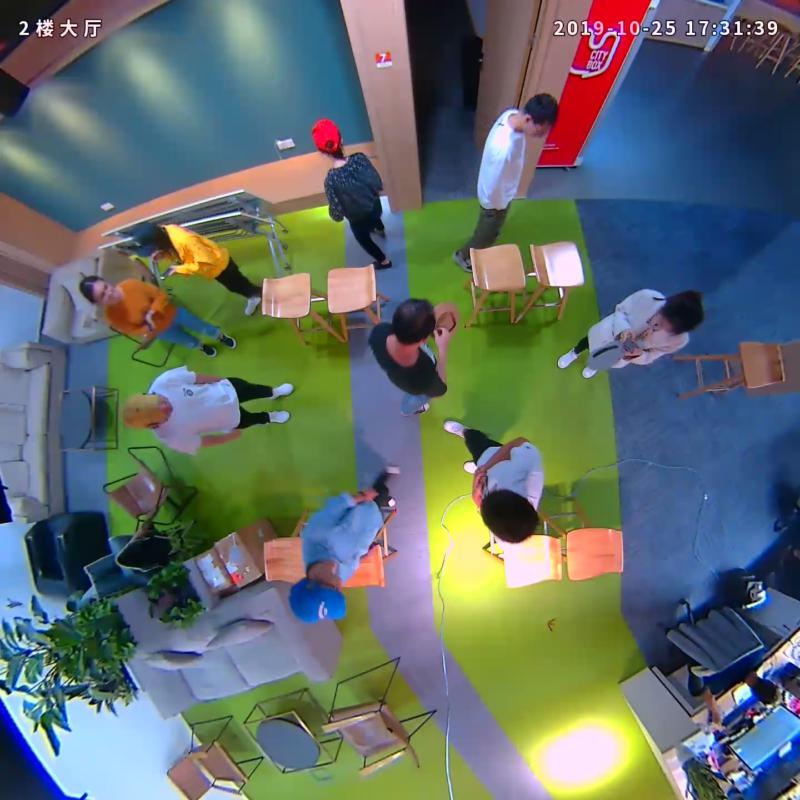head: (480, 489, 539, 544), (288, 572, 348, 623), (391, 297, 436, 347), (656, 296, 704, 335), (122, 393, 173, 429), (521, 92, 558, 139), (312, 116, 345, 157), (130, 221, 165, 258), (79, 273, 116, 304)
